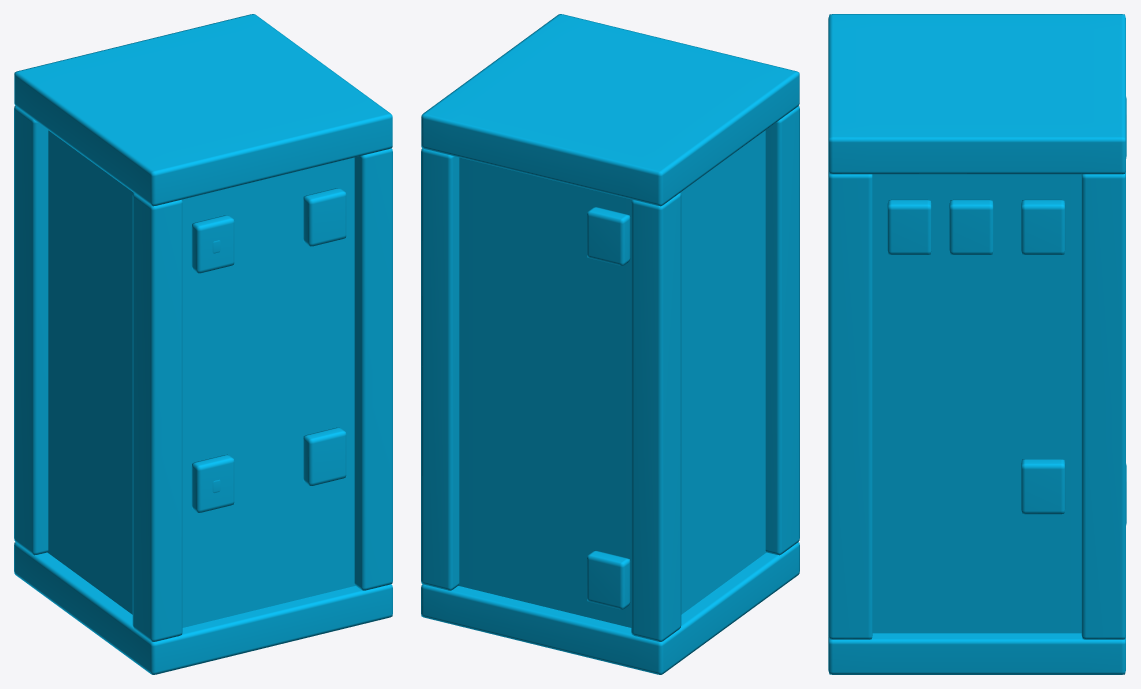
File: SM_Clay_Body_06.fbx
3 views of the same model, side by side, from view 1: azimuth 30°, elevation 25°; view 2: azimuth 150°, elevation 25°; view 3: azimuth 270°, elevation 25° (orthographic). The views are drawn at different scales.
Parts seen in each view (by area): view 1: SM_Clay_Body_06; view 2: SM_Clay_Body_06; view 3: SM_Clay_Body_06.
Boxes of the visible parts, left/top/right/bottom form: SM_Clay_Body_06: left=14, top=14, right=392, bottom=674; SM_Clay_Body_06: left=421, top=14, right=799, bottom=674; SM_Clay_Body_06: left=828, top=14, right=1126, bottom=674.
Size of the model in its own units: 1 by 1.99 by 1.
